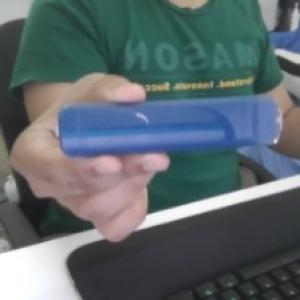Diamond-E-Ciggirate: (55, 92, 283, 158)
